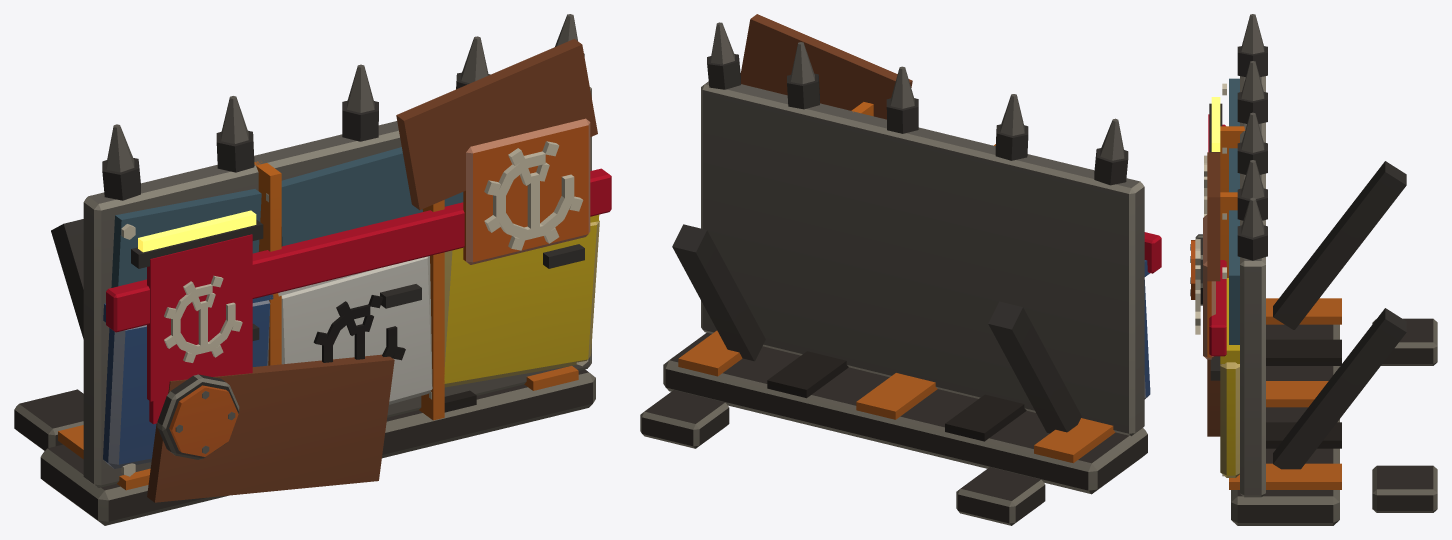
File: bb_wall.glb
3 renders of one model, left to right at view 1: azimuth 30°, elevation 25°; view 2: azimuth 150°, elevation 25°; view 3: azimuth 270°, elevation 25°, orthographic. The views are drawn at different scales.
Parts seen in each view (by area): view 1: bb_wall; view 2: bb_wall; view 3: bb_wall.
Part boxes in pixels (x1,y1,x2,y2): bb_wall: (14,14,611,525); bb_wall: (640,14,1161,525); bb_wall: (1190,14,1437,525).
Size of the model in its own units: 2.2 by 1.66 by 1.14.
